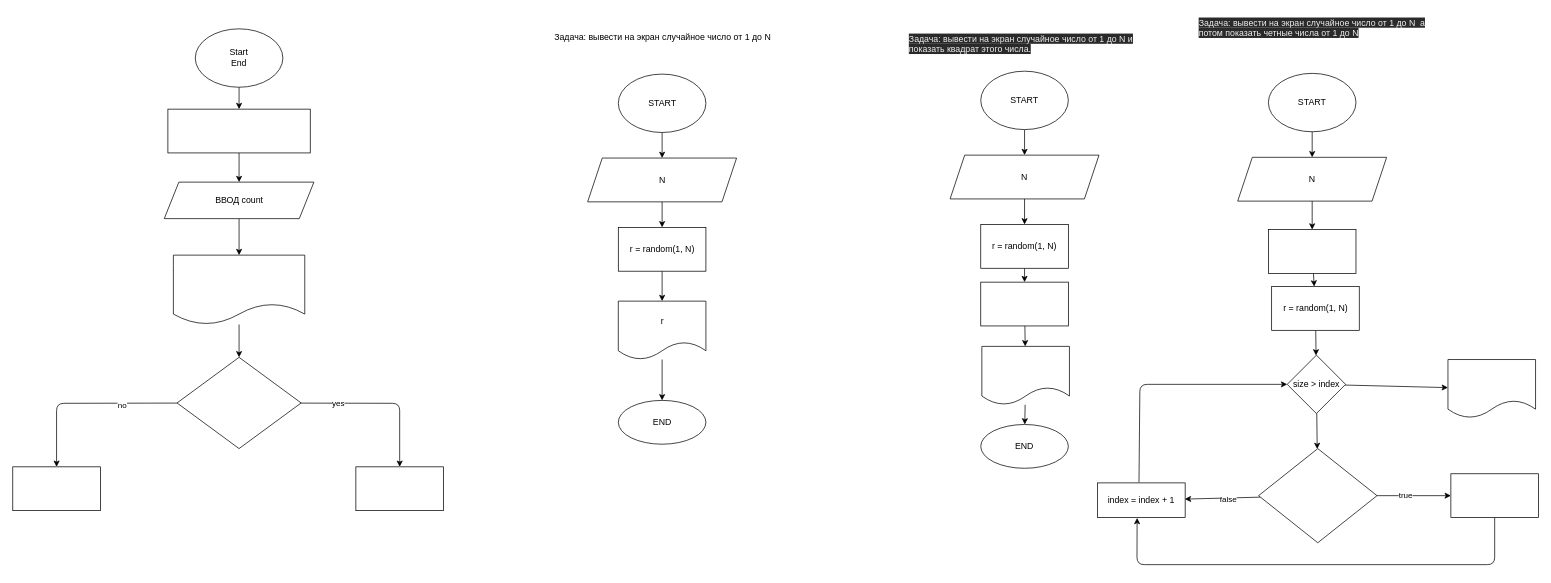
The diagram is 1551 pixels wide and 583 high, and some of its shapes have lost their labels. Here are the shapes that lost their labels. From the top down, the box of each, then its label:
(167, 108, 310, 153): count = 0 res = 1 * sqrt(2)
(1268, 229, 1356, 273): num [1,N] index = 0 size = N
(173, 254, 305, 324): ВЫВОД res
(980, 281, 1068, 326): s = r * r
(981, 346, 1069, 405): r s
(1447, 359, 1536, 418): r, list
(1258, 448, 1377, 543): s = num [index] / 2
(1450, 473, 1538, 518): add s to list
